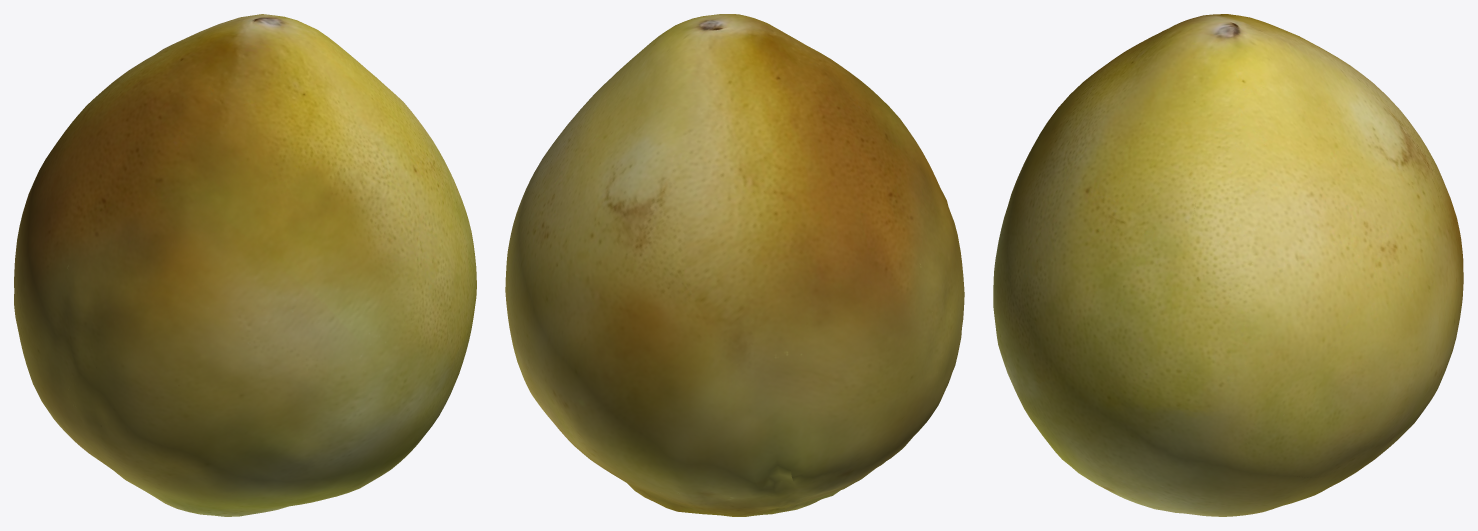
File: Pomelo2.fbx
3 renders of one model, left to right at view 1: azimuth 30°, elevation 25°; view 2: azimuth 150°, elevation 25°; view 3: azimuth 270°, elevation 25°, orthographic. The views are drawn at different scales.
Parts seen in each view (by area): view 1: pomelo_001; view 2: pomelo_001; view 3: pomelo_001.
Boxes of the visible parts, x1,y1,x2,y2 form: pomelo_001: [14, 14, 476, 516]; pomelo_001: [505, 14, 964, 516]; pomelo_001: [993, 14, 1463, 516].
Bounding box in the file's own units: 169 × 186 × 168.
